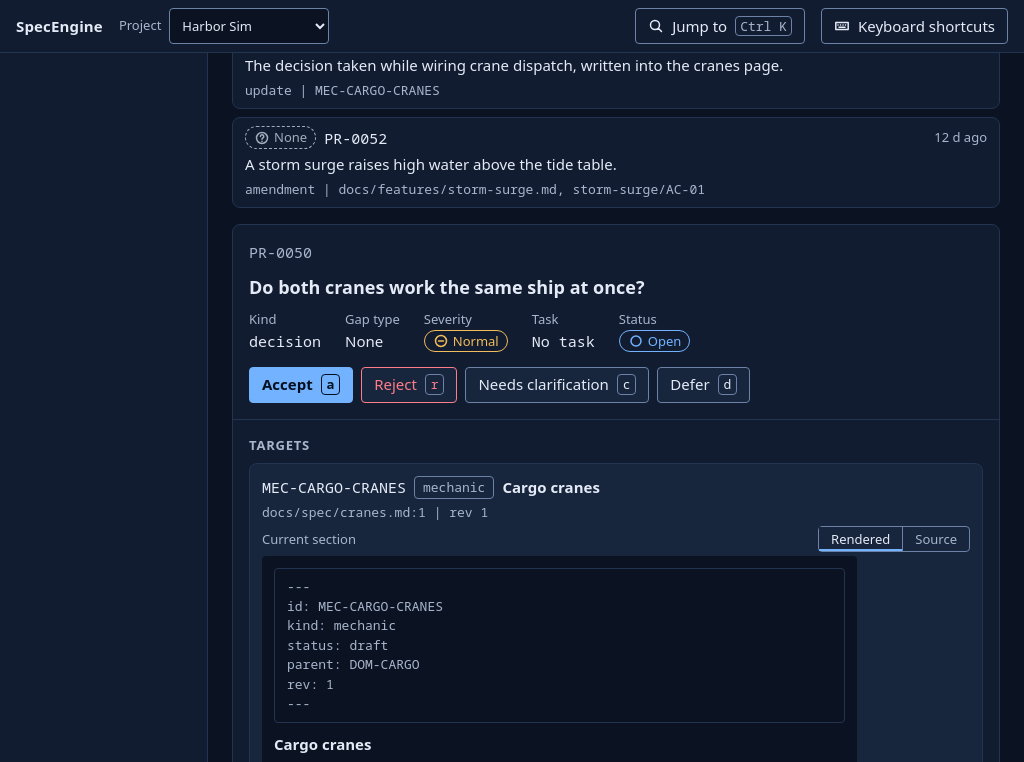
Test: the Inbox card and the decision dialog take the decision by structure (AC-U2) › over HttpClient the decision POST carries exactly the question-shaped stage and the updated_at read
This screenshot has width=1024, height=762.
(page scrolled)
Expected: the text with class "card-id" reads "PR-0050", [249,242,312,262]
Click the button "Accept a" at x=301, y=384, box [249,366,353,402]
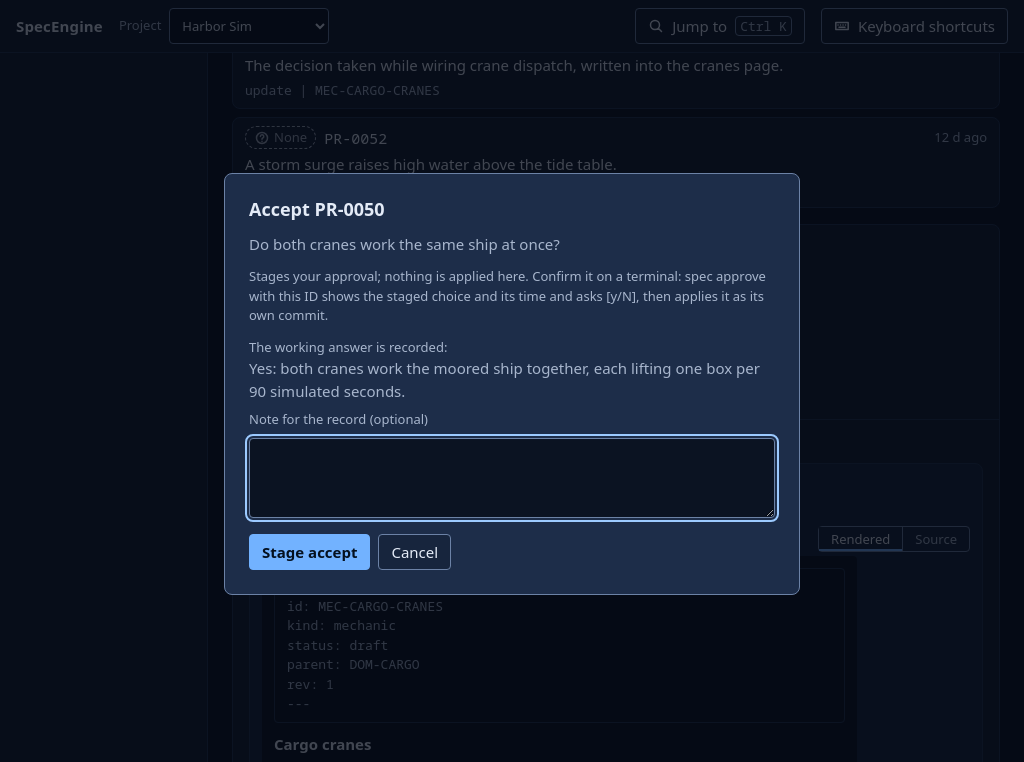
Click the button "Stage accept" at x=310, y=552, box [249,534,370,570]
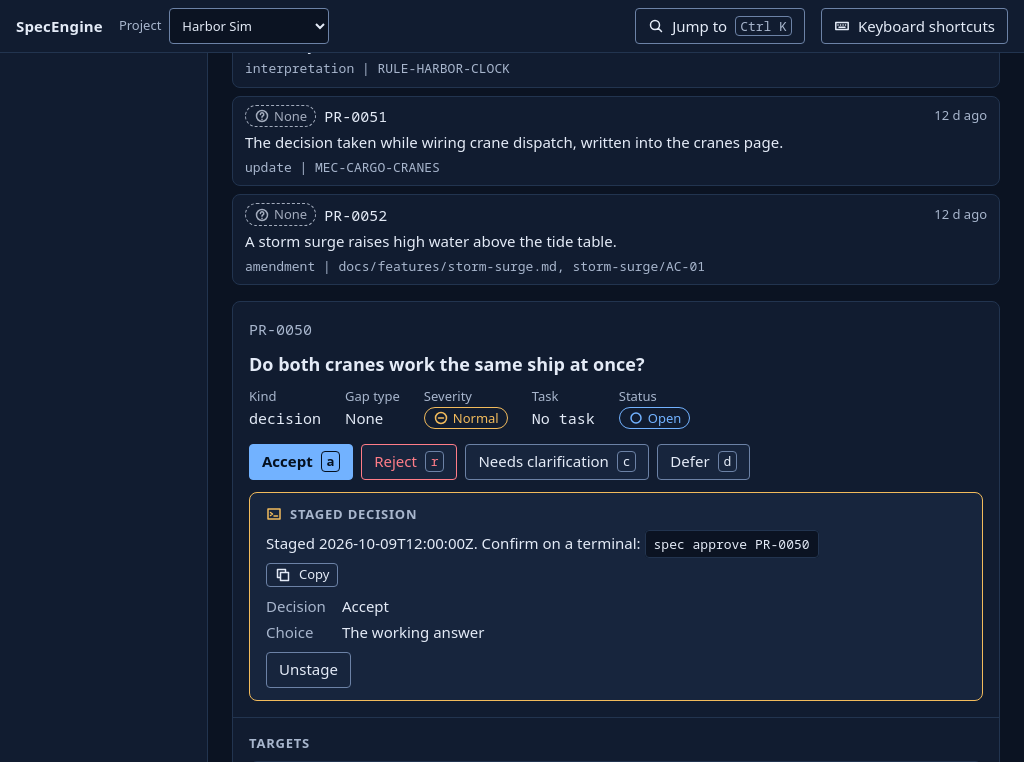
Expected: the element "Staged decision" is shown, [249,492,983,700]
